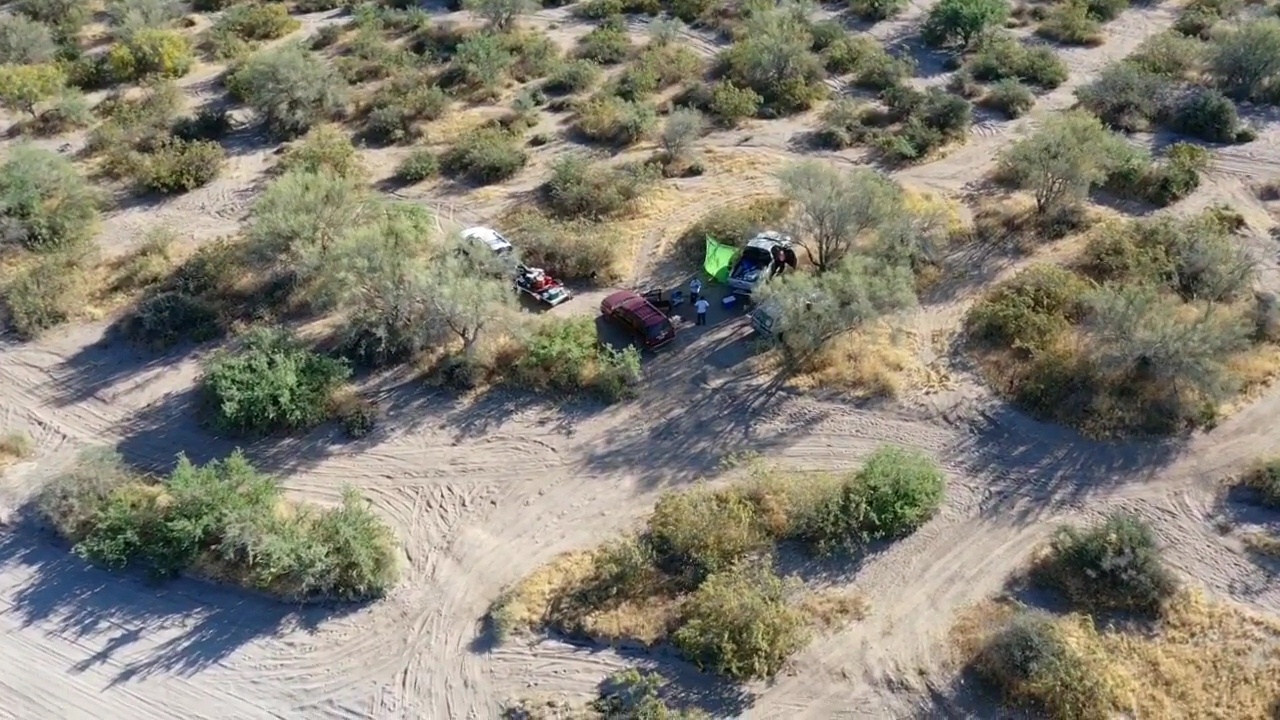araba: (600, 281, 672, 355), (459, 217, 518, 274)
insan: (692, 293, 711, 329), (687, 270, 706, 304)
kamyonet: (723, 227, 799, 297)
